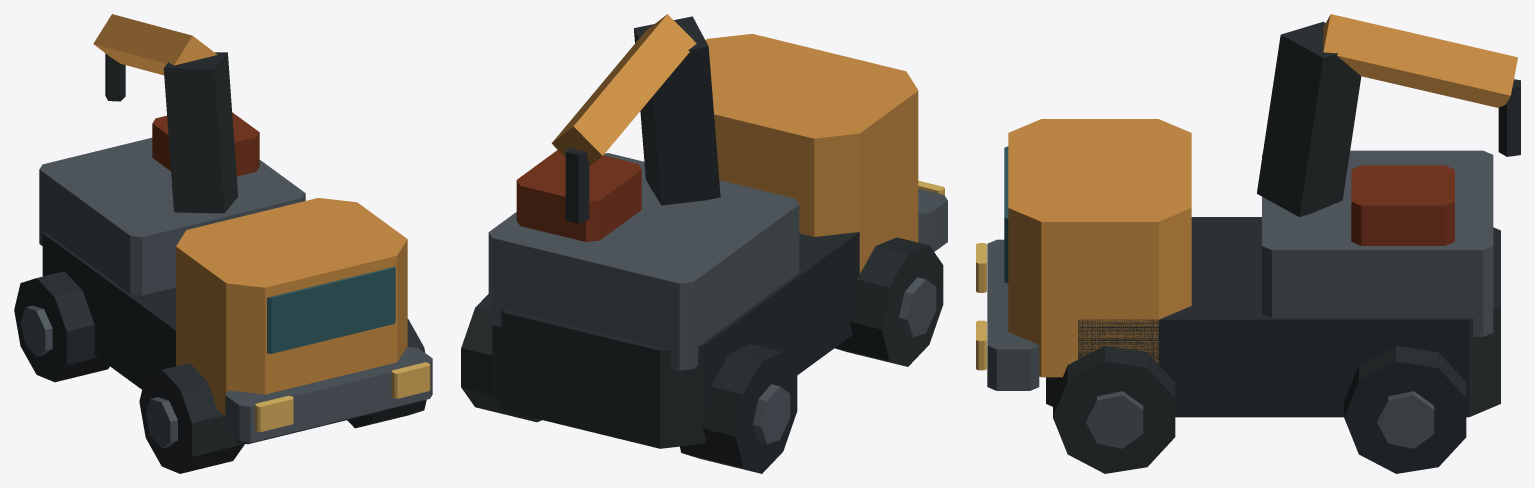
The model's file is repair_truck.glb.
3 views of the same model, side by side, from view 1: azimuth 30°, elevation 25°; view 2: azimuth 150°, elevation 25°; view 3: azimuth 270°, elevation 25° (orthographic). The views are drawn at different scales.
Visible parts, largest first — view 1: repair_truck; view 2: repair_truck; view 3: repair_truck.
Part boxes in pixels (bbox=[...]): repair_truck: bbox=[14, 14, 432, 473]; repair_truck: bbox=[461, 14, 947, 473]; repair_truck: bbox=[976, 14, 1520, 473].
Size of the model in its own units: 0.85 by 1.09 by 1.37.
